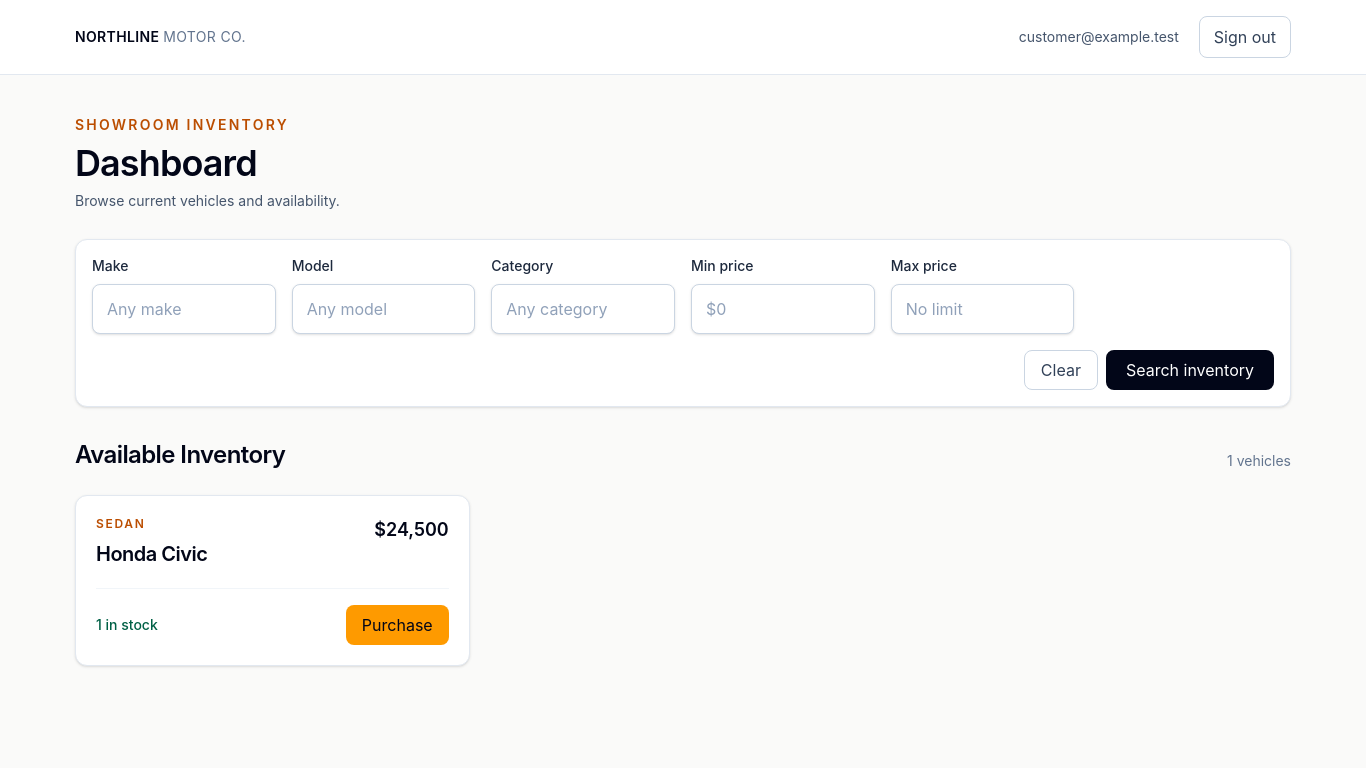
Test: dashboard › shows conflict feedback and refreshes stale stock after a 409
This screenshot has width=1366, height=768.
Click the button "Purchase": coordinates (397, 625) [346,605,449,645]
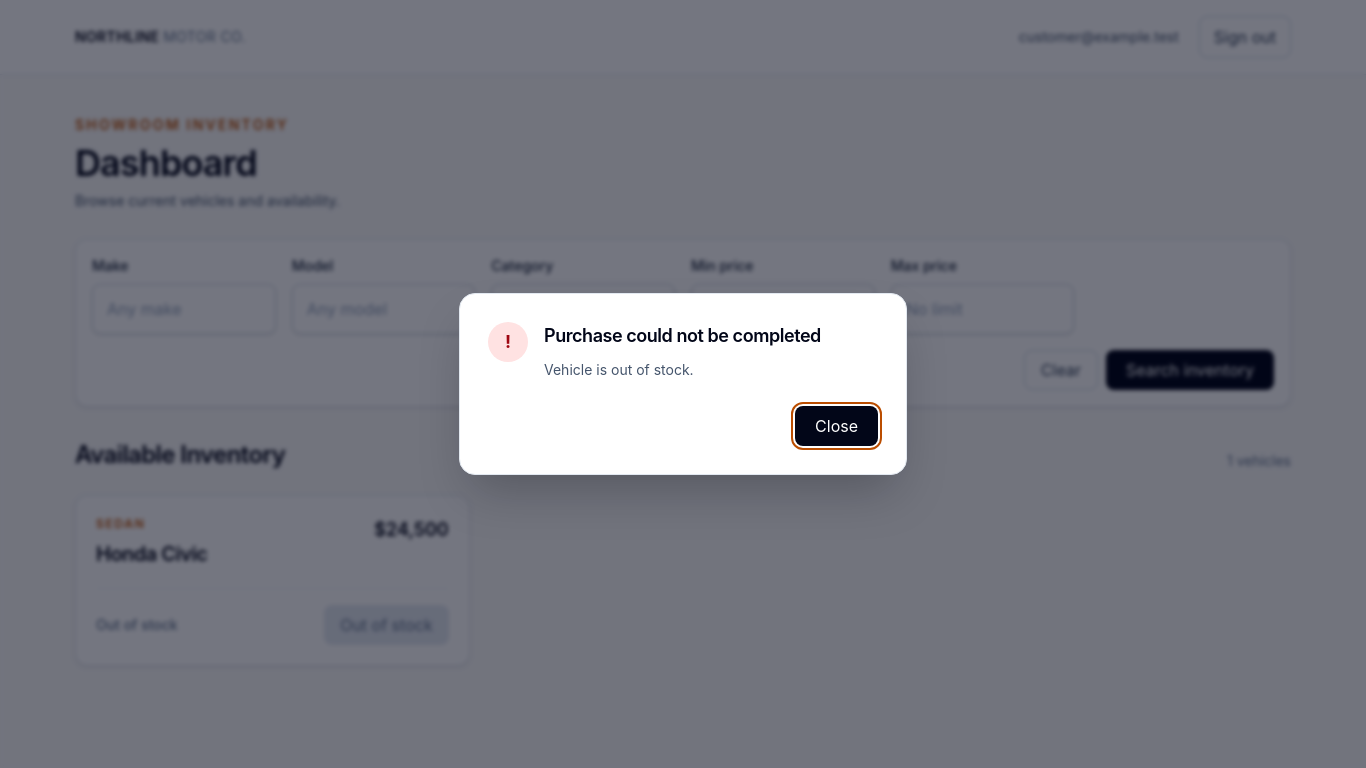
Expected: the dialog "Purchase could not be completed" shows "Vehicle is out of stock.", [544,361,694,378]
Expected: the button "Out of stock" is disabled, [324,605,449,645]
